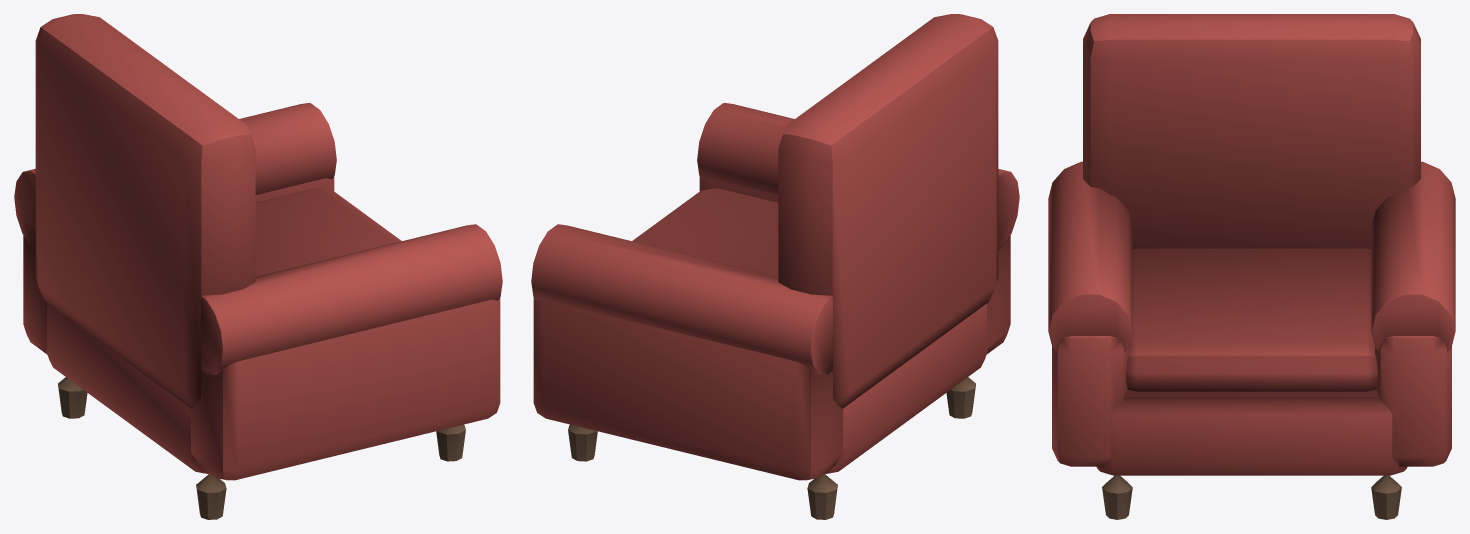
File: armchair.glb
The picture shows the model from 3 angles, left to right: view 1: azimuth 30°, elevation 25°; view 2: azimuth 150°, elevation 25°; view 3: azimuth 270°, elevation 25°; orthographic projection. The views are drawn at different scales.
Visible parts, largest first — view 1: boat_redleather, boat_darkwood; view 2: boat_redleather, boat_darkwood; view 3: boat_redleather, boat_darkwood.
Boxes of the visible parts, x1,y1,x2,y2 form: boat_redleather: [14, 14, 502, 480]; boat_darkwood: [58, 377, 465, 519]; boat_redleather: [531, 14, 1019, 480]; boat_darkwood: [568, 377, 975, 519]; boat_redleather: [1048, 14, 1455, 475]; boat_darkwood: [1102, 475, 1401, 519].
Bounding box in the file's own units: 0.86 × 1.1 × 1.06.
